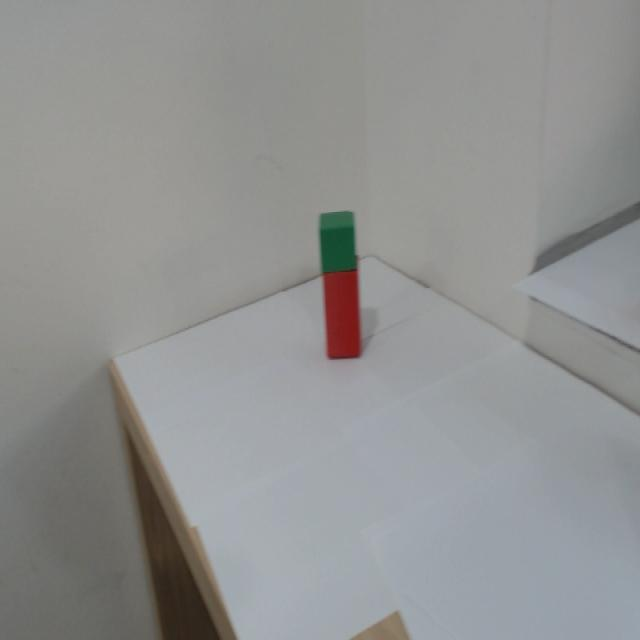cube: (311, 203, 368, 271)
